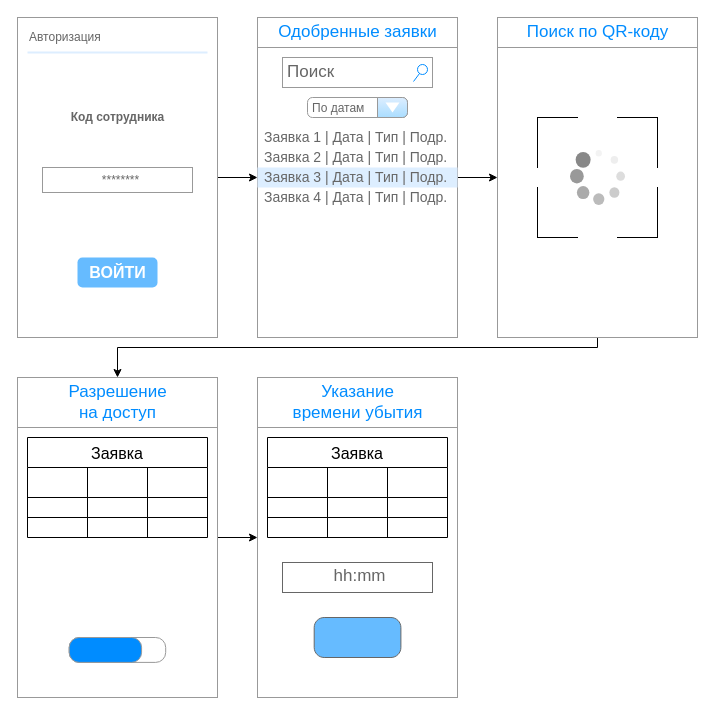
Some shapes in this 715 by 715 pixel diagram are drawn without their labels. The shapes that lost their labels are listed below. From the top down, each one's centre as x and y in pixels, then its label:
At (117,649): "Выдать".
At (357,637): "Установить время".
